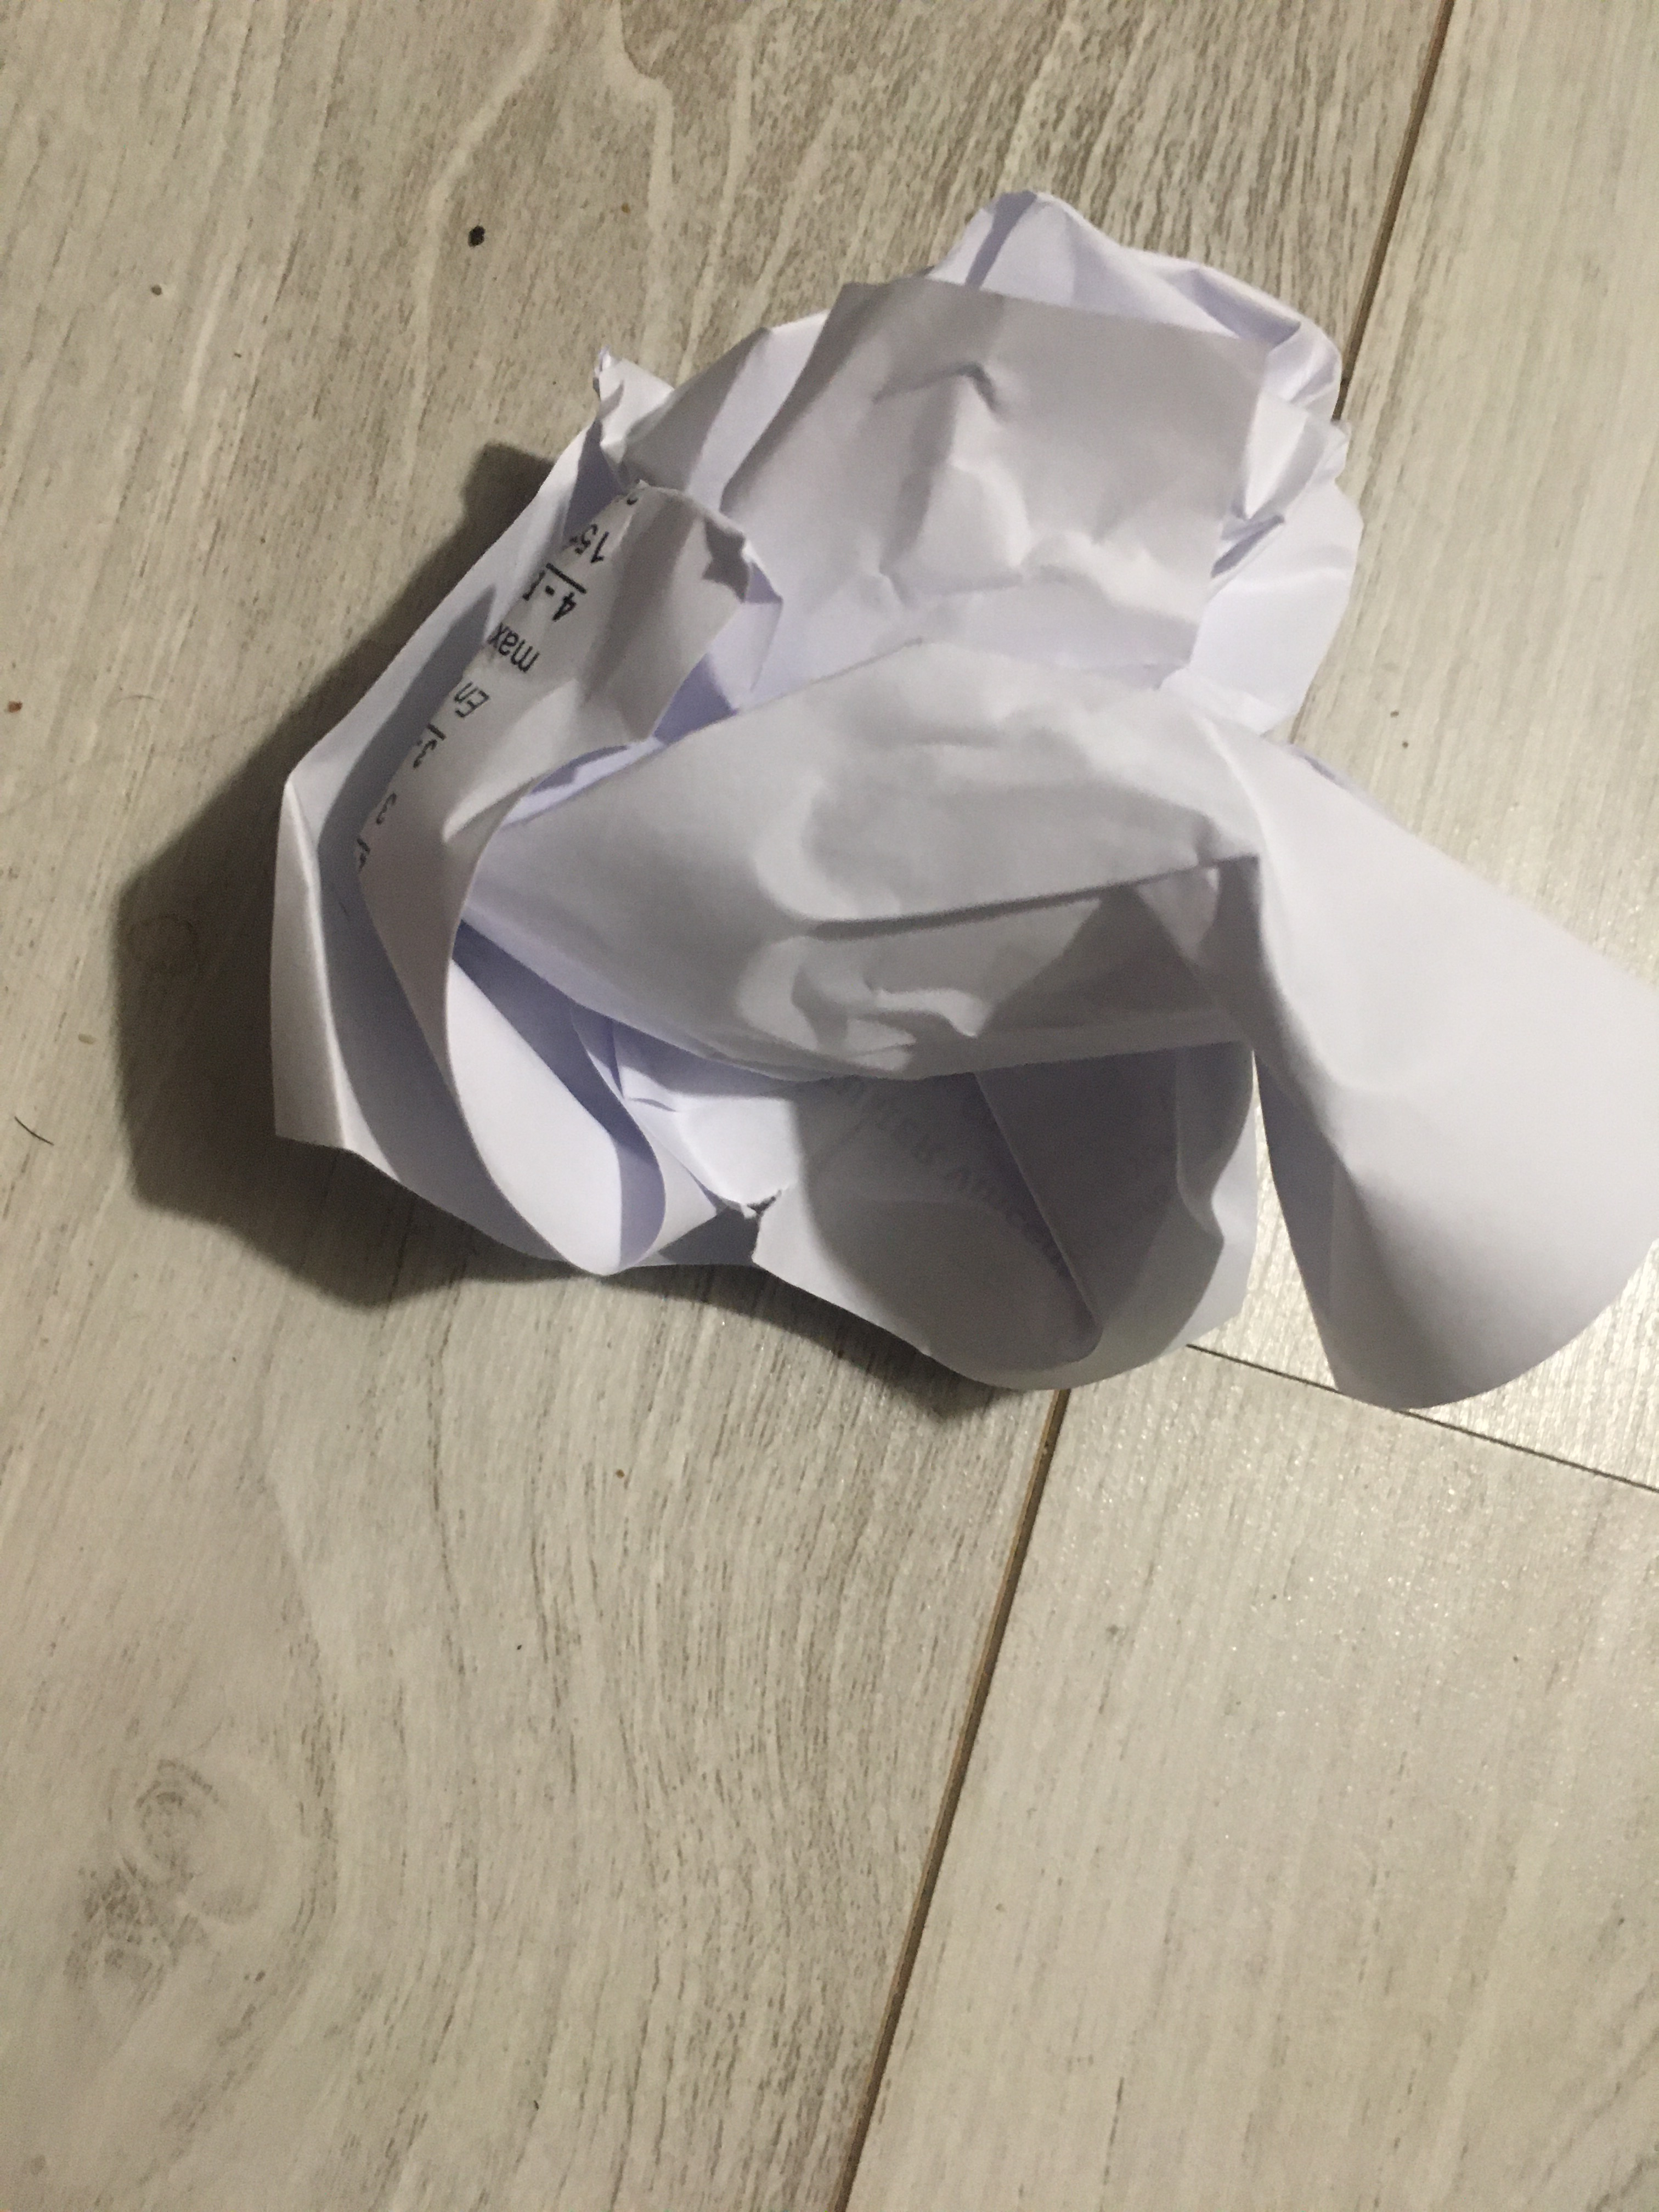paper: (274, 190, 1659, 1409)
